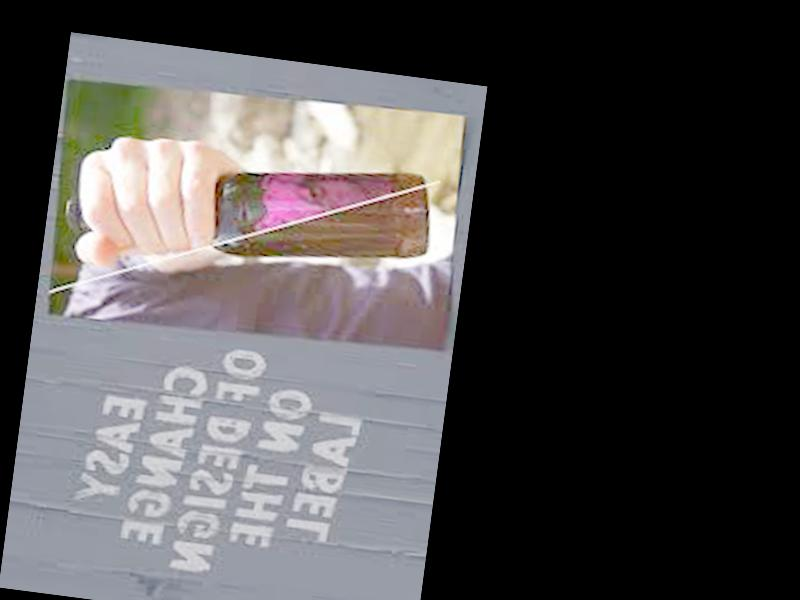Beer: (65, 134, 436, 281)
